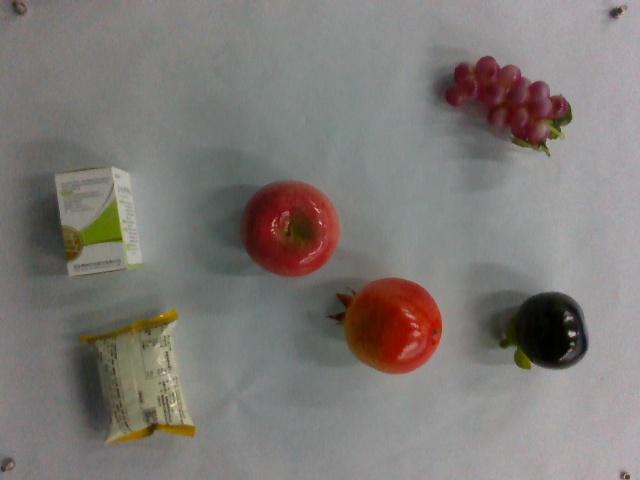apple: (240, 175, 340, 276)
carton: (50, 163, 148, 280)
dessert: (86, 311, 197, 446)
grape: (445, 51, 573, 155)
mangosteen: (498, 292, 588, 373)
pomegranate: (331, 277, 448, 378)
